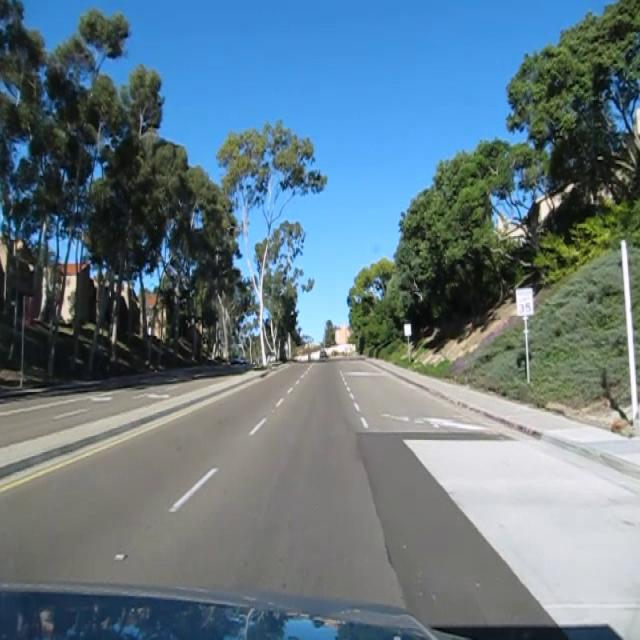speedLimit35: (515, 287, 533, 316)
